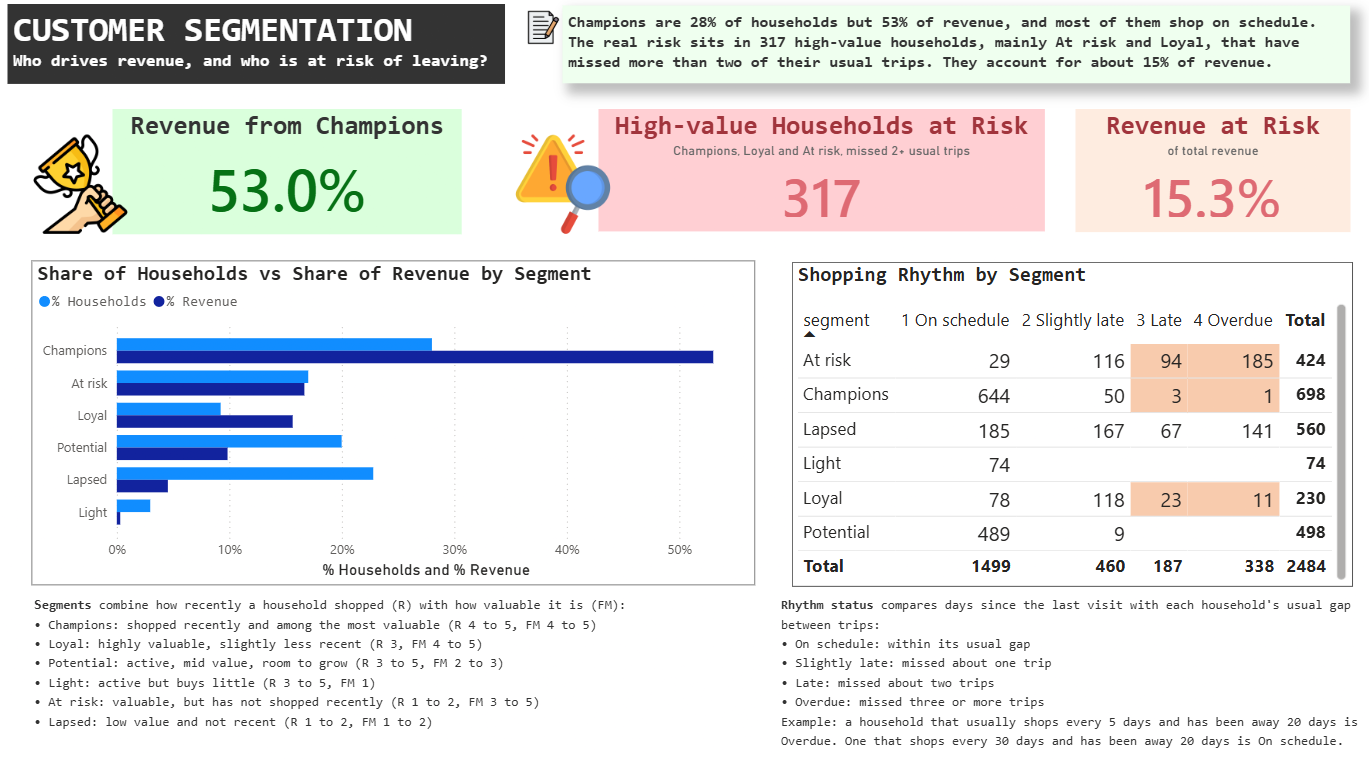

This screenshot's page, from the dashboard's own definition file:
{"tool":"powerbi","page":{"name":"Customers","canvas":[1280,720],"ordinal":1},"visuals":[{"type":"textbox","box":[13.1,11.5,460.3,73.7],"z":0},{"type":"cardVisual","title":"Revenue from Champions","fields":{"Data":["_Measures.Champions Revenue Share"]},"box":[109.1,108.7,323.5,115.7],"z":1000},{"type":"cardVisual","title":"High-value Households at Risk","fields":{"Data":["_Measures.High-Value Households at Risk"]},"box":[560.3,109,413.4,113.6],"z":2000},{"type":"cardVisual","title":"Revenue at Risk","fields":{"Data":["_Measures.Revenue at Risk %"]},"box":[1001.2,108.7,254.9,113.7],"z":3000},{"type":"image","box":[1.6,132.2,157.3,91.7],"z":4000},{"type":"image","box":[445.6,132.2,162.2,91.7],"z":5000},{"type":"clusteredBarChart","title":"Share of Households vs Share of Revenue by Segment","fields":{"Y":["_Measures.% Households","_Measures.% Revenue"],"Category":["public dash_households.segment"]},"box":[34.7,249.1,669.9,300.5],"z":6000},{"type":"pivotTable","title":"Shopping Rhythm by Segment","fields":{"Columns":["public dash_households.rhythm_status"],"Rows":["public dash_households.segment"],"Values":["_Measures.Households"]},"box":[738.3,249.6,519.7,300.5],"z":7000},{"type":"textbox","box":[486.6,13.1,768.3,78.6],"z":8000},{"type":"textbox","box":[32.6,551.8,645.1,145.1],"z":9000},{"type":"textbox","box":[724.2,552.1,552.1,158.9],"z":10000},{"type":"textbox","box":[13.1,52.4,473.5,36],"z":11000},{"type":"textbox","box":[525.9,13.1,729,72.1],"z":12000},{"type":"image","box":[493.1,9.8,31.1,45.9],"z":13000}]}

Visuals, with their boxes in screenshot pixels (x1, y1, x2, y2), scaled from the page's 1280x720 canvas onto the 1369x759 screenshot:
textbox: x1=14, y1=12, x2=506, y2=90
"Revenue from Champions" cardVisual: x1=117, y1=115, x2=463, y2=237
"High-value Households at Risk" cardVisual: x1=599, y1=115, x2=1041, y2=235
"Revenue at Risk" cardVisual: x1=1071, y1=115, x2=1343, y2=234
image: x1=2, y1=139, x2=170, y2=236
image: x1=477, y1=139, x2=650, y2=236
"Share of Households vs Share of Revenue by Segment" clusteredBarChart: x1=37, y1=263, x2=754, y2=579
"Shopping Rhythm by Segment" pivotTable: x1=790, y1=263, x2=1345, y2=580
textbox: x1=520, y1=14, x2=1342, y2=97
textbox: x1=35, y1=582, x2=725, y2=735
textbox: x1=775, y1=582, x2=1365, y2=750
textbox: x1=14, y1=55, x2=520, y2=93
textbox: x1=562, y1=14, x2=1342, y2=90
image: x1=527, y1=10, x2=561, y2=59
